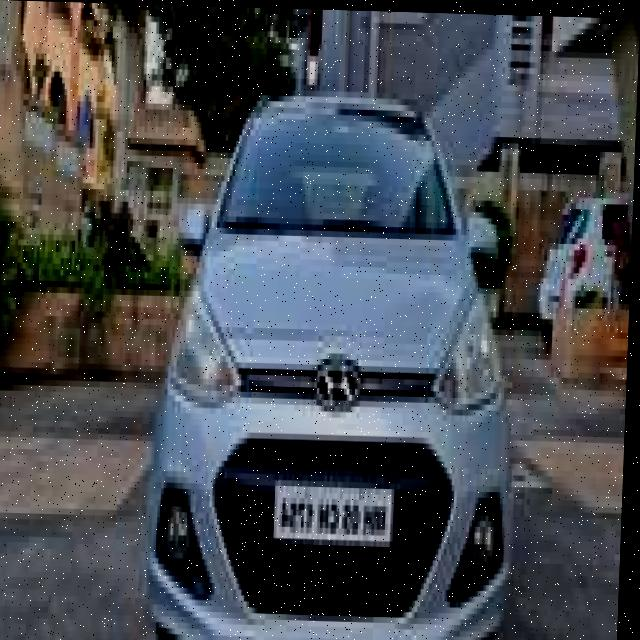plate: (278, 481, 400, 545)
